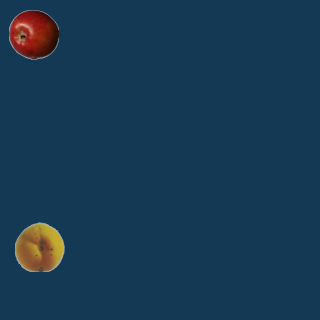Apple Braeburn: (8, 9, 58, 59)
Peach 2: (14, 221, 64, 271)
